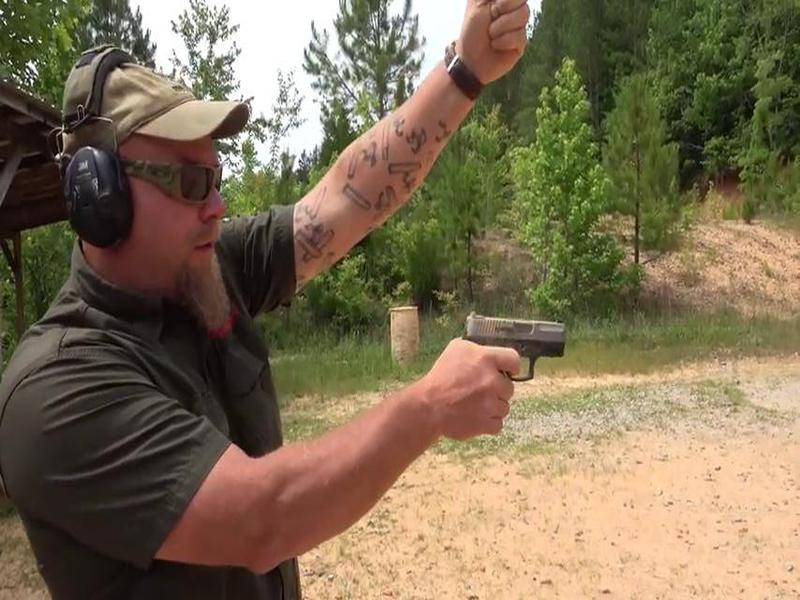Pistola: (445, 304, 580, 425)
